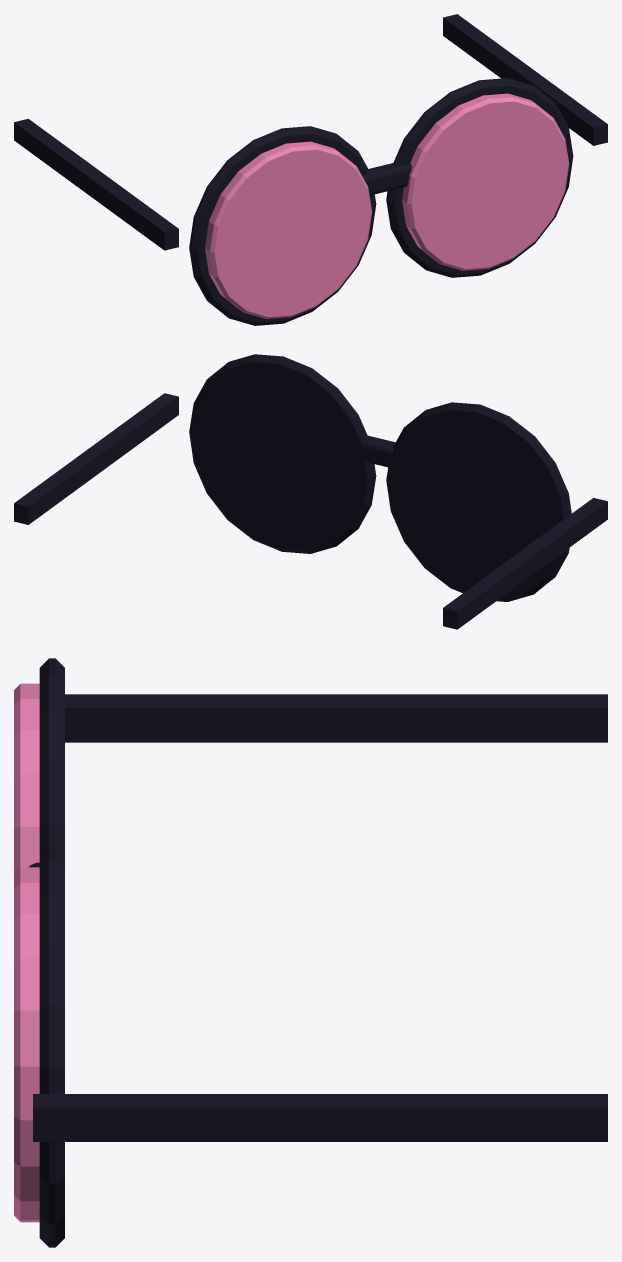
Rendered from shades.glb.
3 renders of one model, top to bottom at view 1: azimuth 30°, elevation 25°; view 2: azimuth 150°, elevation 25°; view 3: azimuth 270°, elevation 25°, orthographic. The views are drawn at different scales.
Visible parts, largest first — view 1: shades; view 2: shades; view 3: shades.
Part boxes in pixels (box(x1,y1,x2,y2)): shades: box(14, 14, 607, 325); shades: box(14, 354, 607, 629); shades: box(14, 658, 607, 1247).
Size of the model in its own units: 0.306 by 0.128 by 0.186.
